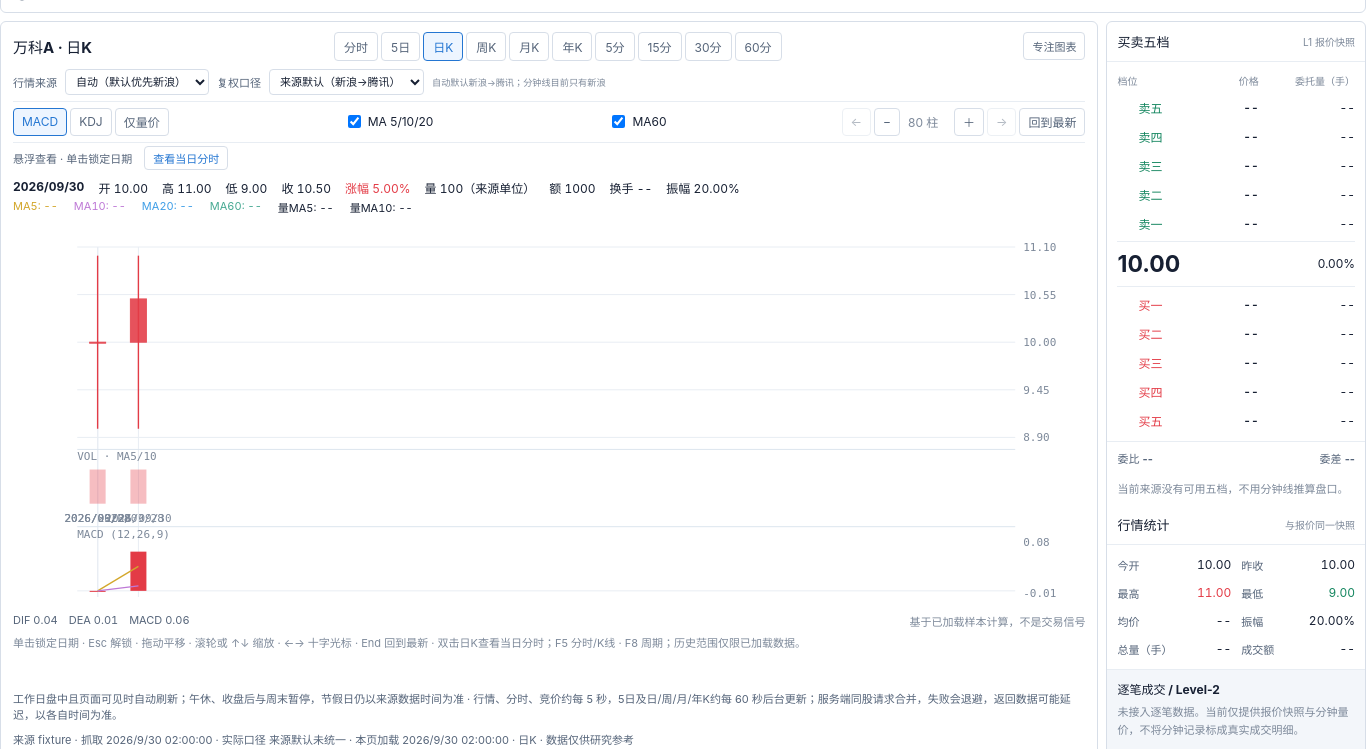
Test: stock detail refresh preserves the rendered chart › opens the selected daily candle date and preserves the daily chart selection when history closes
(page scrolled)
Press ArrowLeft in the element that starts with "MACD", box [13, 100, 1086, 650]
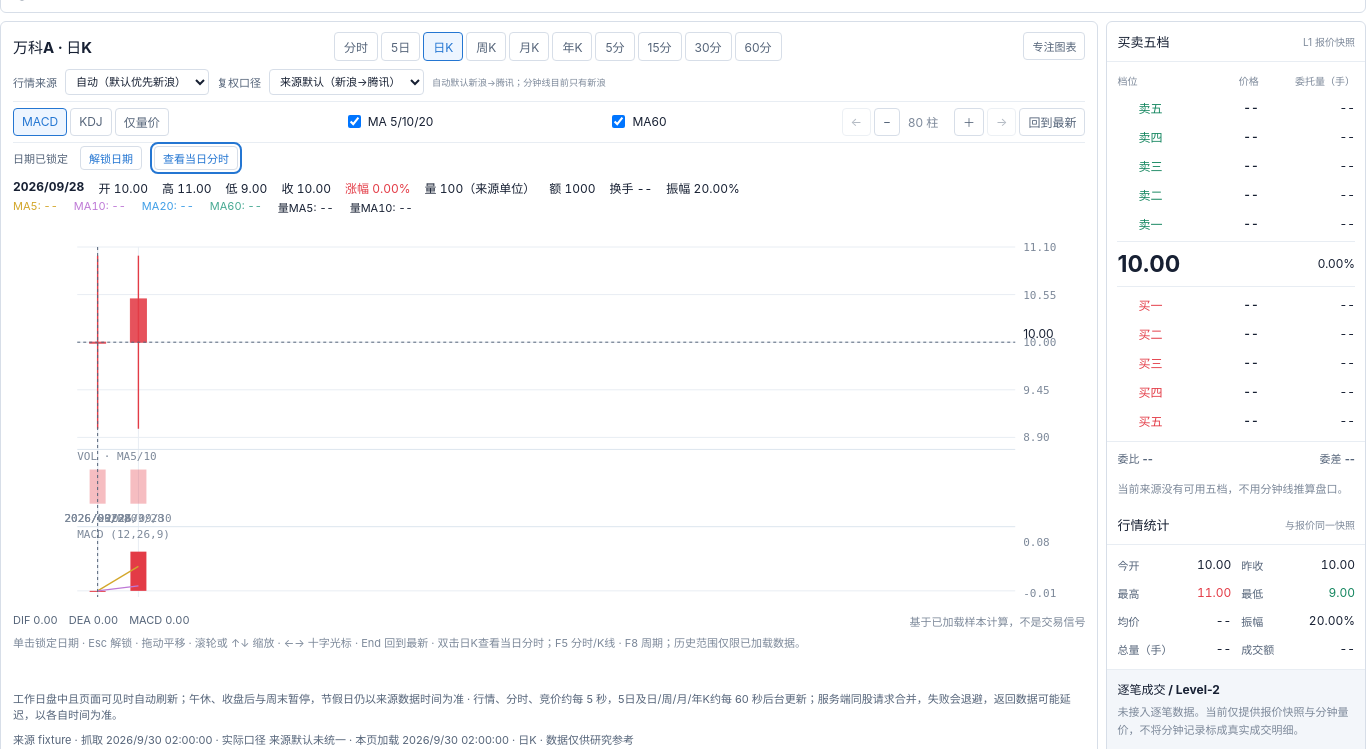
Now the element that starts with "MACD" shows "日期已锁定", box [13, 152, 68, 166]
Click the button "查看当日分时" at [196, 158], box [154, 146, 238, 170]
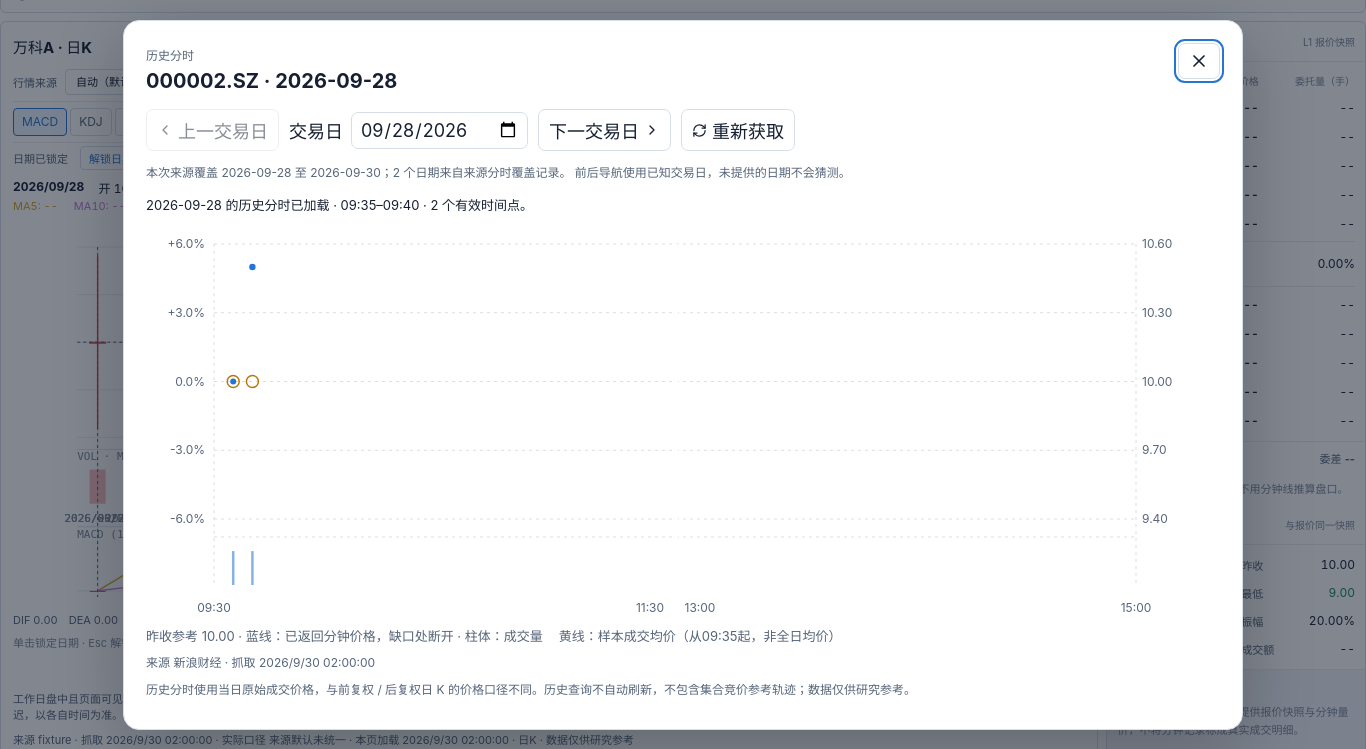
Now the dialog shows "原始成交价格", box [146, 682, 916, 697]
Press F5 in the dialog
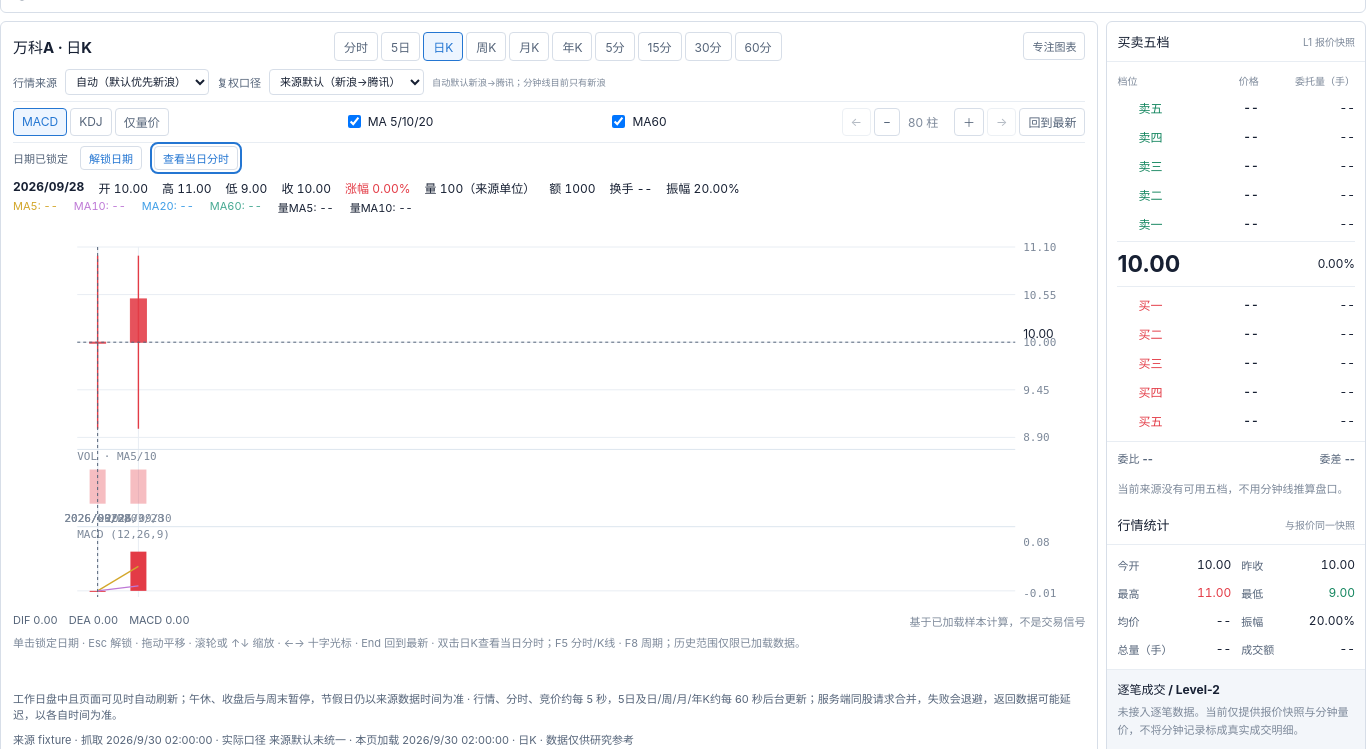
Expected: the heading "万科A · 日K" is shown, [13, 36, 92, 56]
Now the element that starts with "MACD" shows "日期已锁定", box [13, 152, 68, 166]
Now the dialog is gone
